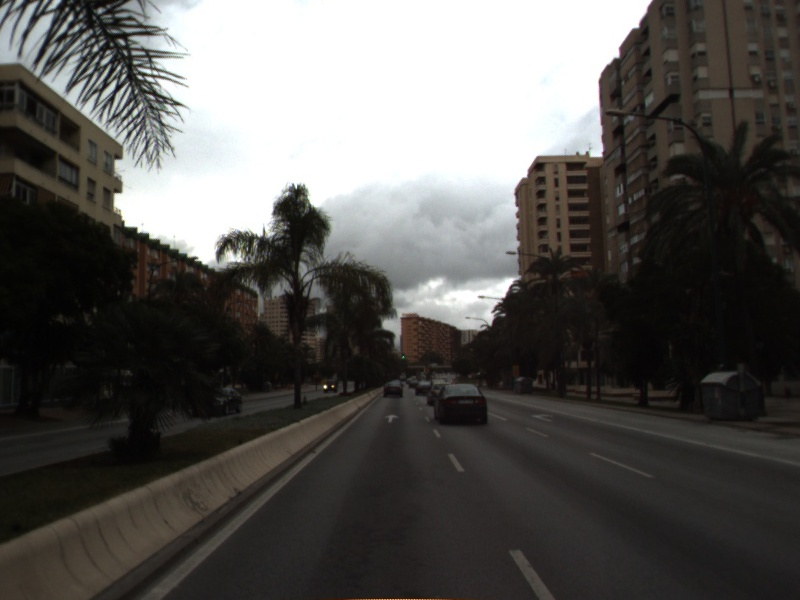RIGHT: (528, 410, 556, 424)
STRAIGHT: (382, 412, 402, 425)
